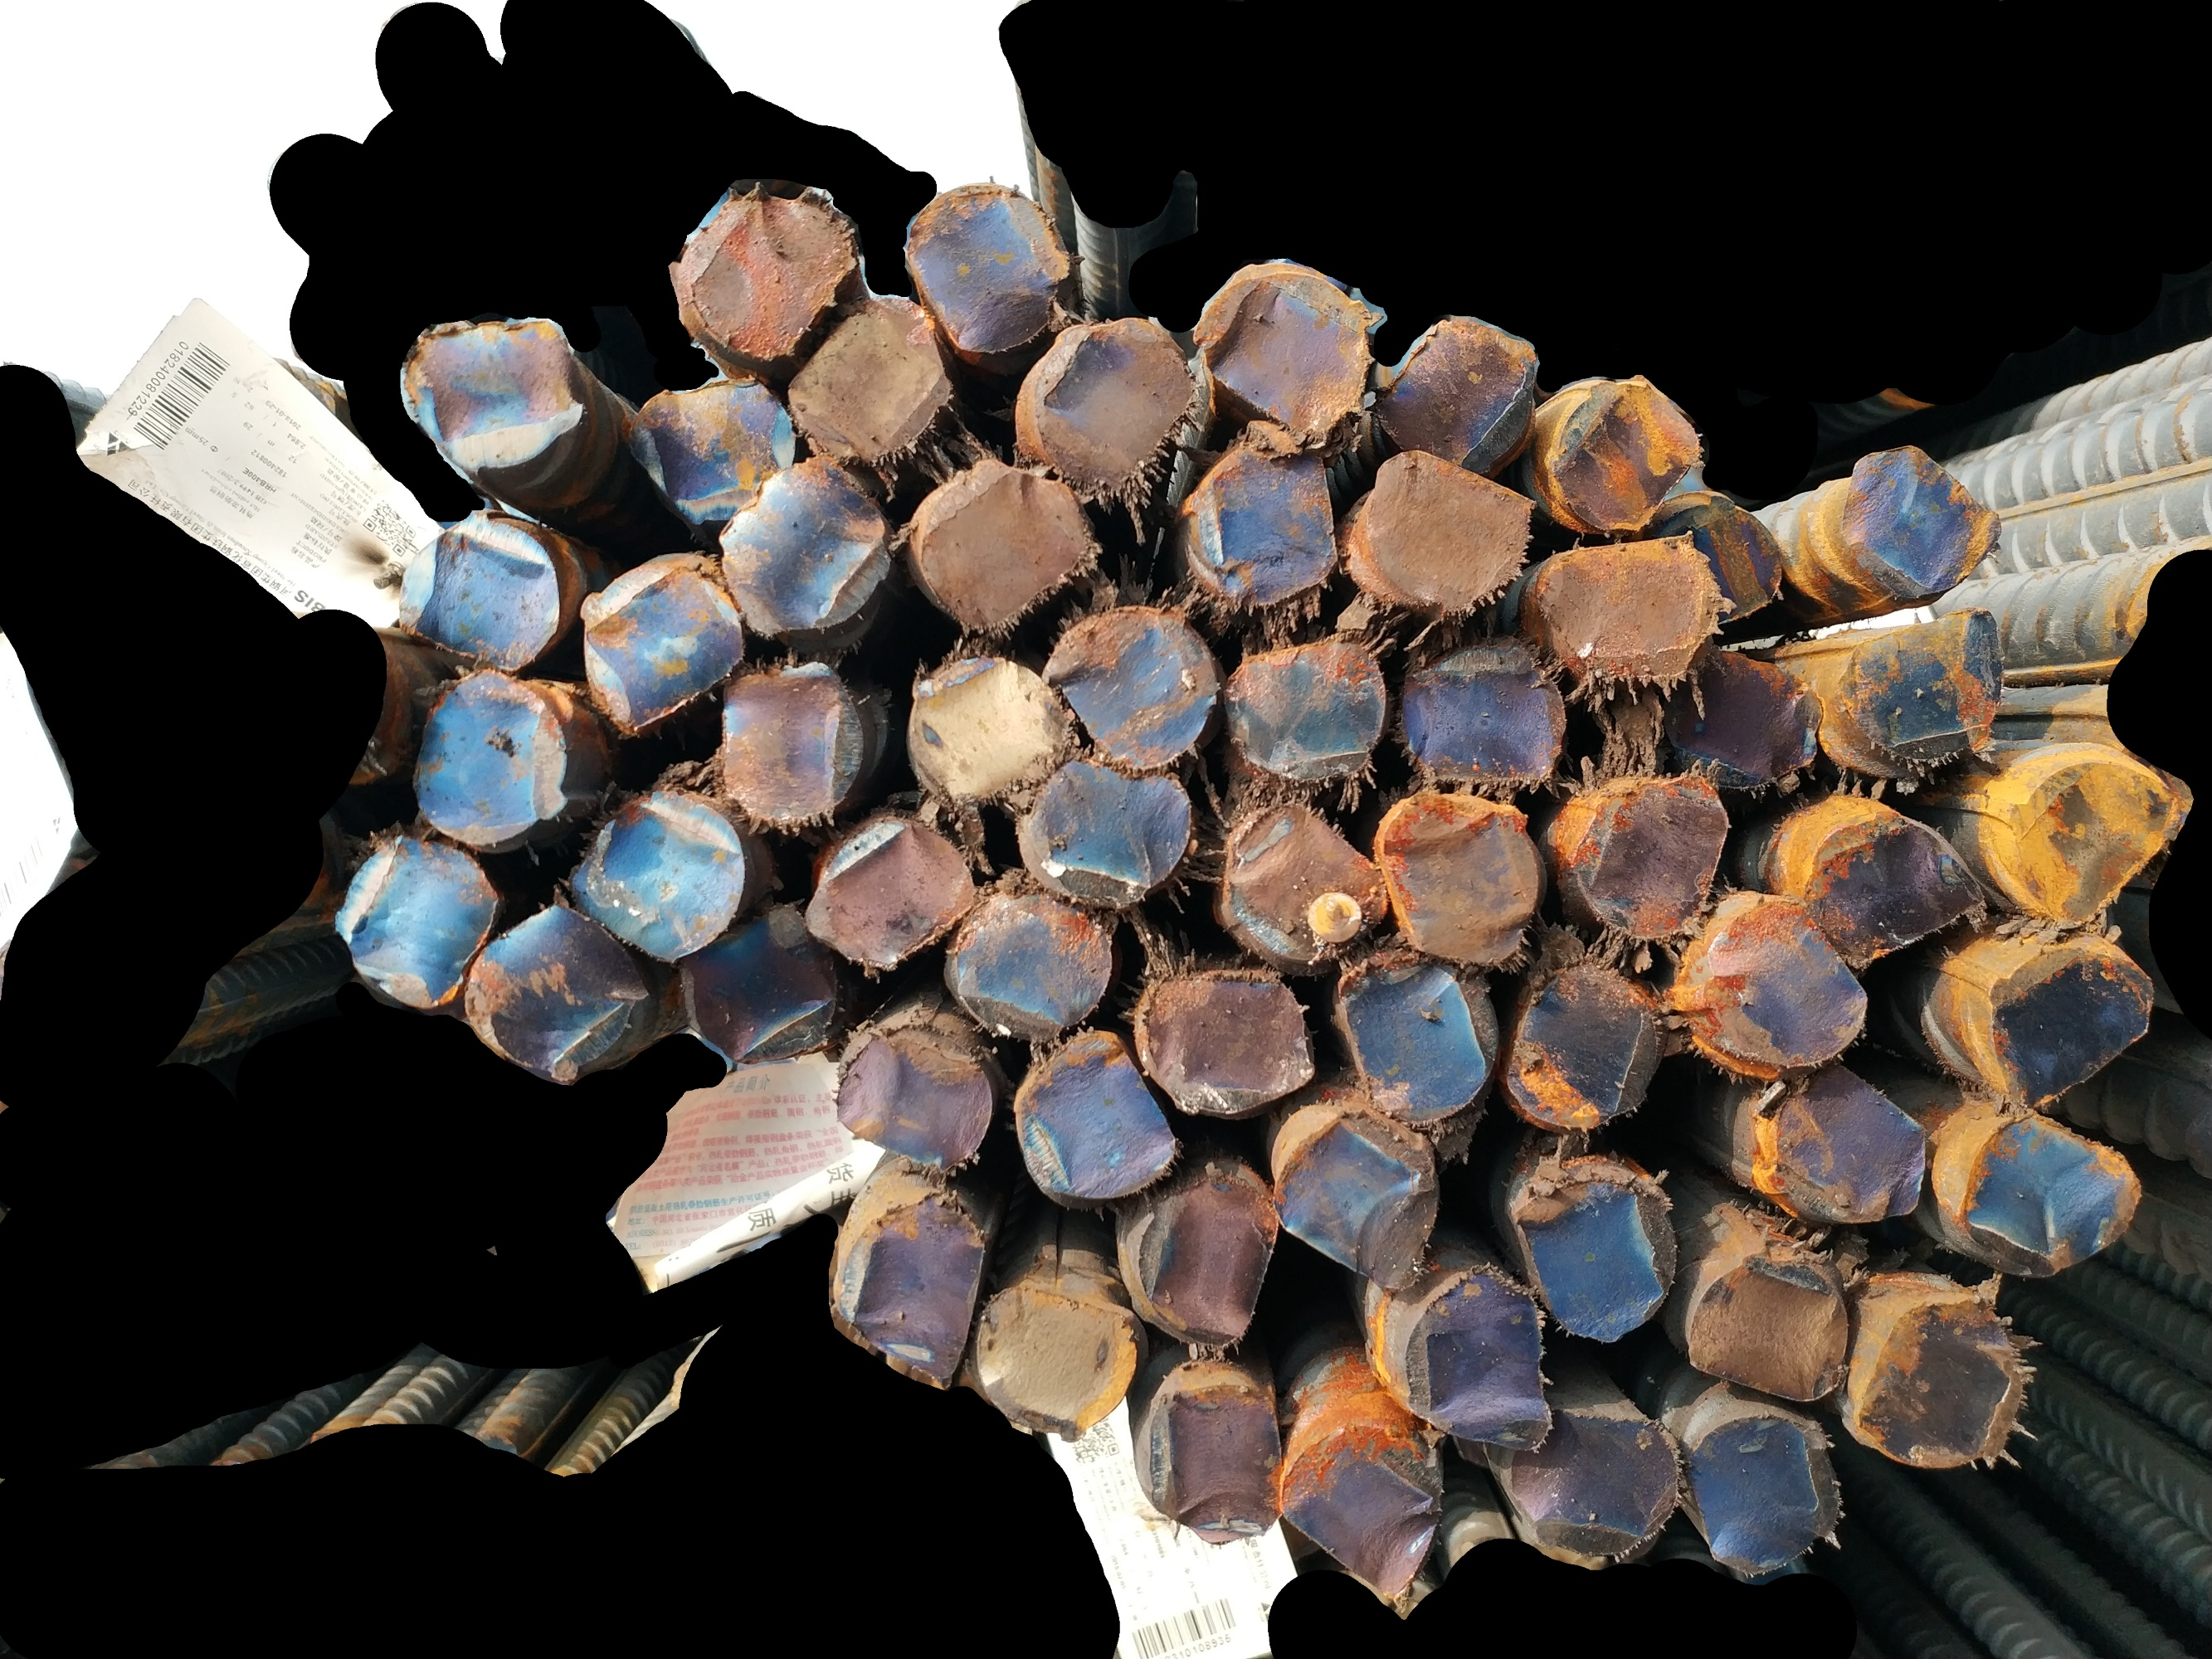rebar: (901, 455, 1105, 643), (457, 897, 652, 1089), (709, 453, 903, 645), (668, 181, 863, 371), (556, 781, 753, 965), (1018, 314, 1203, 509), (1684, 892, 1879, 1077), (1265, 1107, 1450, 1297), (1848, 1293, 2038, 1478), (1187, 268, 1379, 450), (1269, 1420, 1452, 1608), (1958, 1107, 2151, 1284), (1368, 786, 1548, 974), (1393, 1262, 1560, 1462), (328, 829, 509, 1014), (1008, 1021, 1187, 1208), (830, 1192, 995, 1394), (1529, 528, 1731, 694), (2001, 753, 2189, 931), (1178, 427, 1349, 622), (1360, 444, 1543, 626), (1795, 812, 1994, 978), (1035, 603, 1224, 775), (406, 664, 577, 852), (1984, 938, 2161, 1117), (577, 556, 753, 737), (1503, 960, 1677, 1143), (1213, 795, 1396, 969), (708, 652, 875, 842), (1133, 951, 1323, 1119), (1499, 1173, 1680, 1347), (1832, 603, 2013, 777), (800, 809, 987, 978), (781, 289, 957, 467), (669, 897, 854, 1066), (390, 314, 584, 474), (898, 181, 1077, 354), (1389, 631, 1576, 796), (1569, 769, 1734, 950), (1503, 1403, 1693, 1560), (1764, 1054, 1935, 1229), (1325, 955, 1490, 1134), (1016, 753, 1198, 917), (1128, 1169, 1285, 1358), (1220, 626, 1394, 795), (943, 880, 1119, 1047), (1367, 307, 1543, 472), (898, 652, 1077, 814), (1654, 634, 1829, 800), (622, 368, 802, 528), (394, 509, 567, 673), (1839, 441, 2013, 603), (1679, 1248, 1858, 1405), (1684, 1406, 1842, 1581), (971, 1281, 1145, 1438), (1548, 369, 1710, 537), (830, 1019, 997, 1176), (1140, 1380, 1290, 1553), (1630, 491, 1788, 638)
